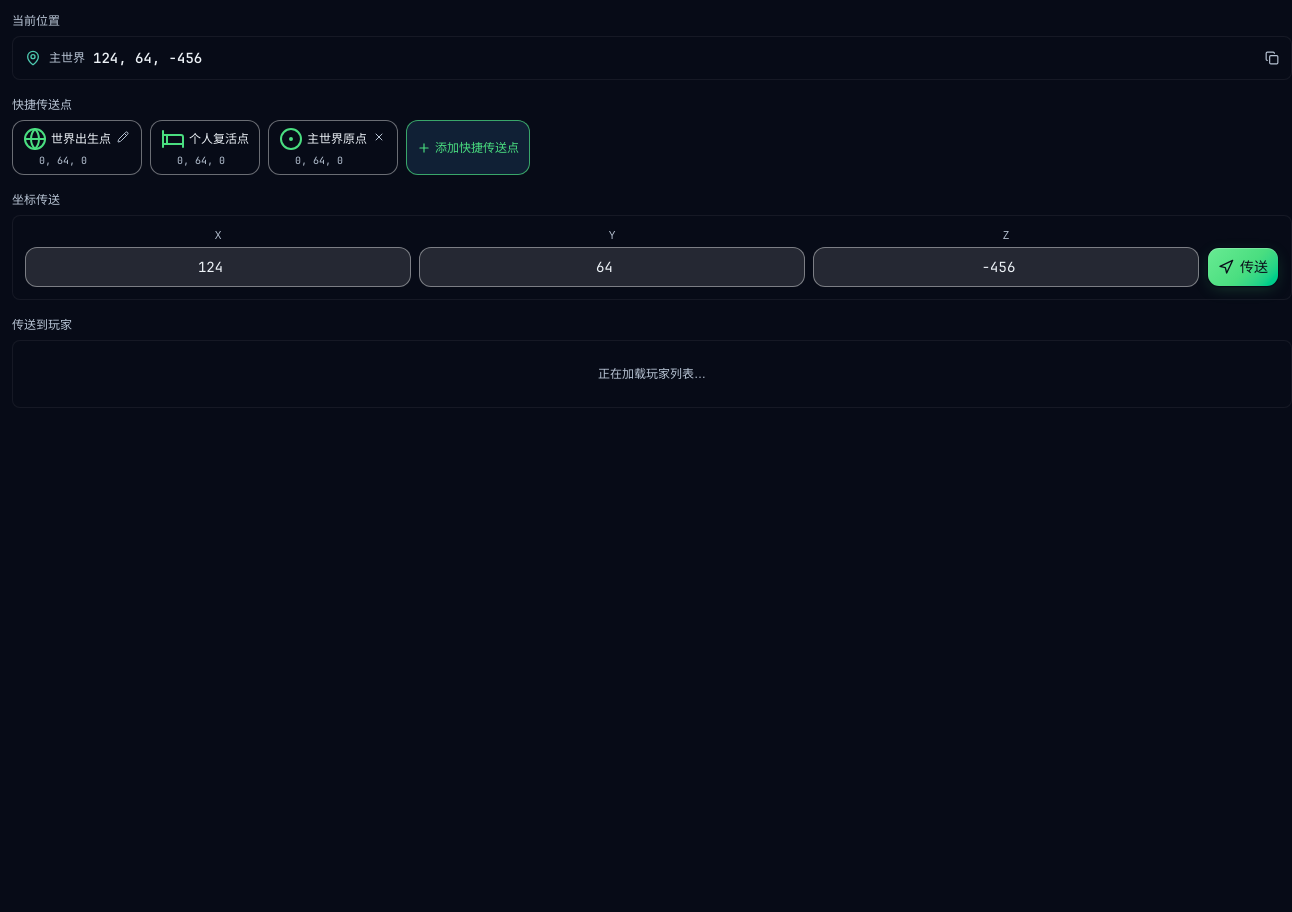
Scenario: TeleportTab › 坐标表单：非法输入不执行并提示
Replace the text in the number field named "X" with "abc": (218, 267) [25,247,411,287]
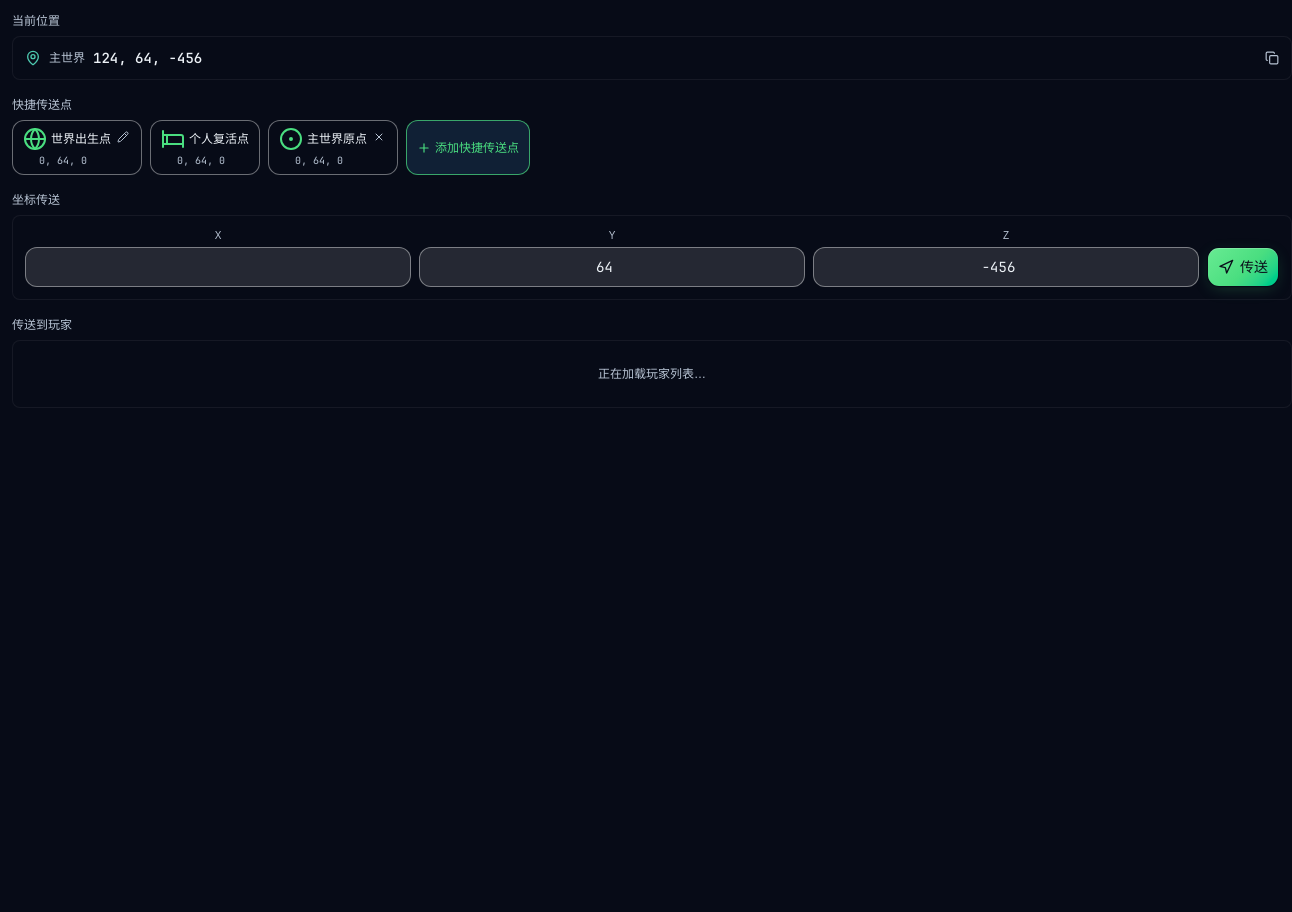
Click the button "传送": (1243, 267) [1207,247,1279,287]
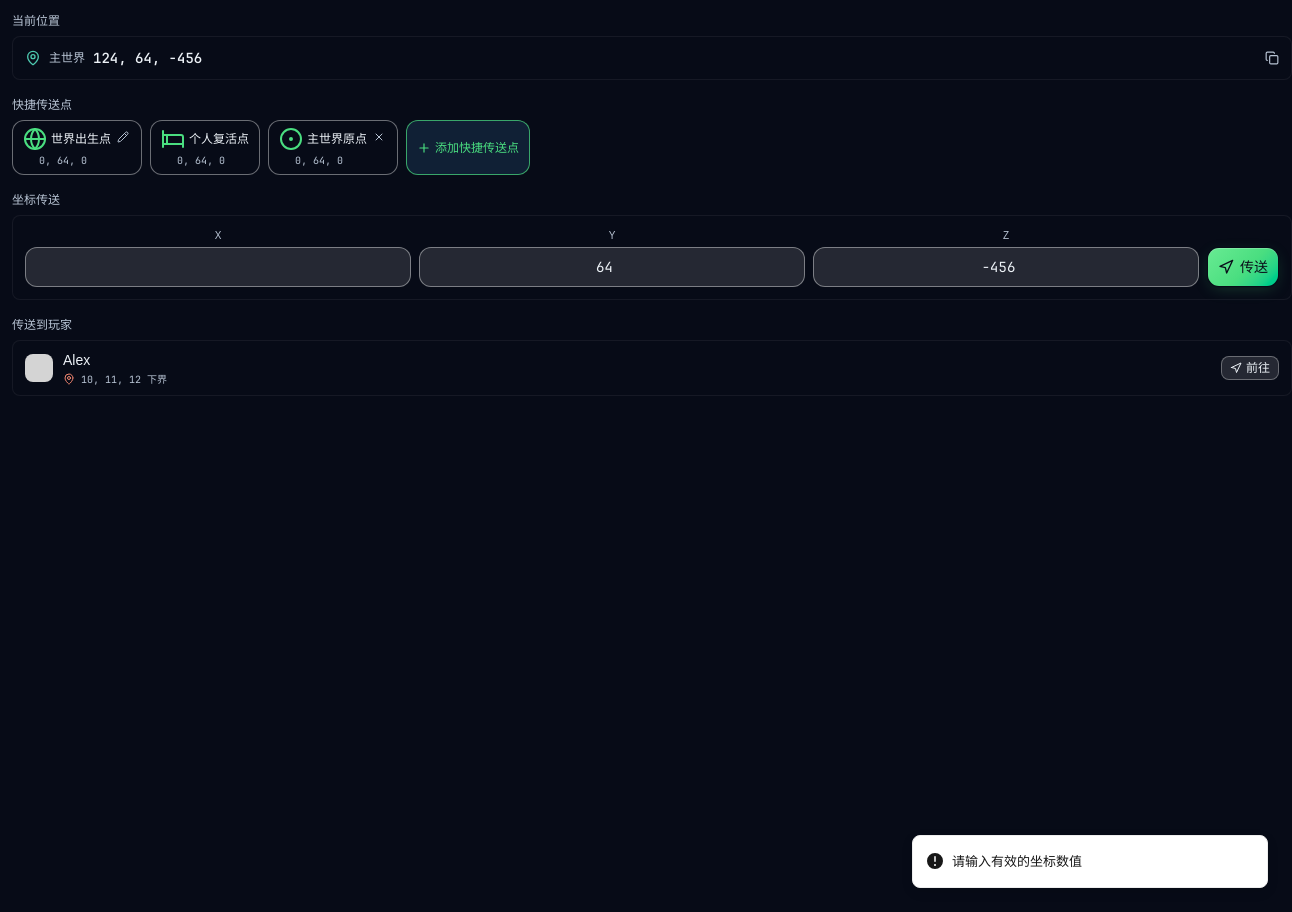
Expected: the text "请输入有效的坐标数值" is shown, [952,852,1082,871]
